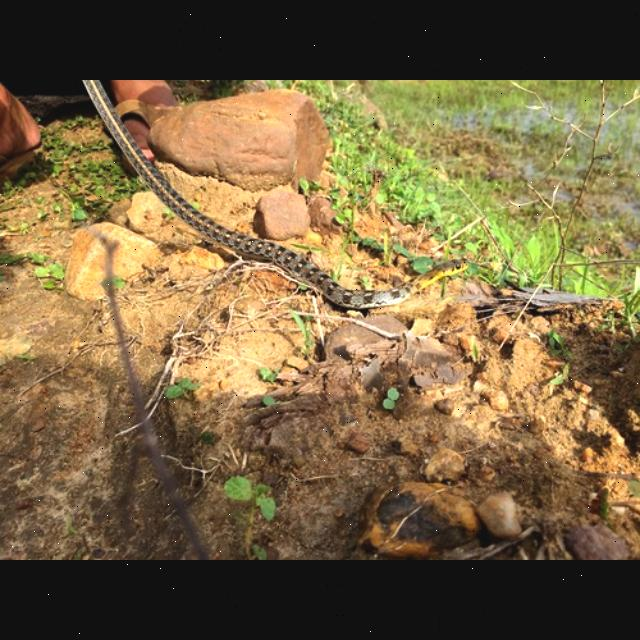snake: (68, 80, 492, 316)
